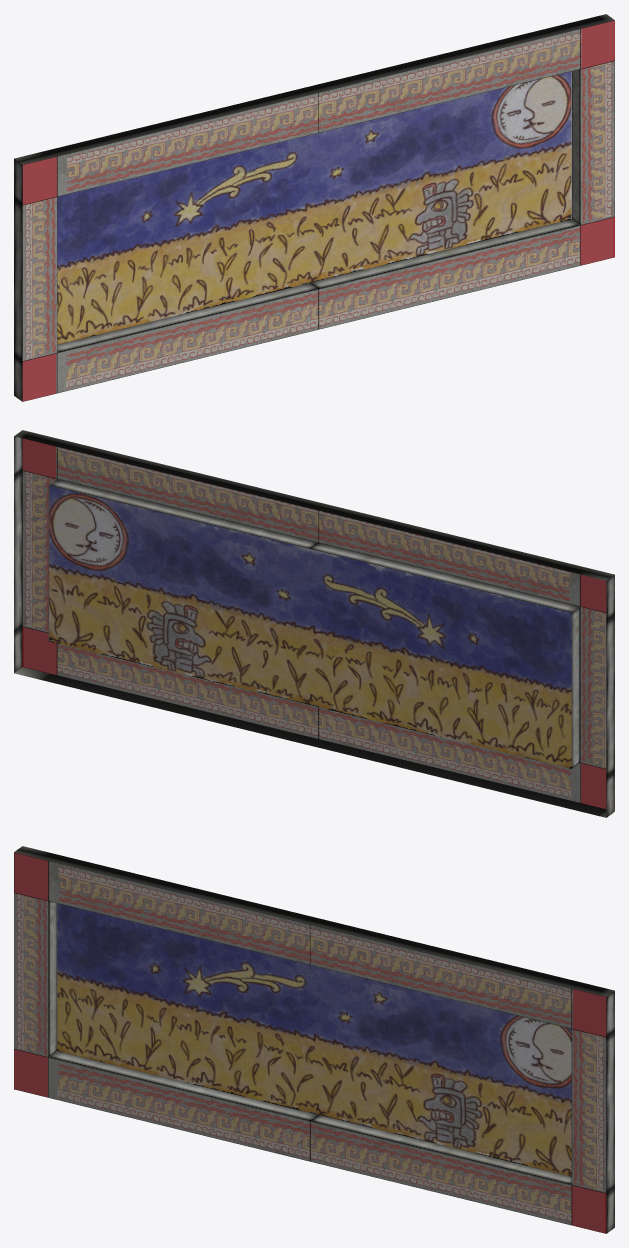
The model's file is Mural_Pasado.glb.
3 views of the same model, one above another, from view 1: azimuth 30°, elevation 25°; view 2: azimuth 150°, elevation 25°; view 3: azimuth 330°, elevation 25° (orthographic).
Parts seen in each view (by area): view 1: Mural_Guarda, B12, D12, C12, D5, D3, C3, C5, B5, B3, D4, D9 (+37 smaller); view 2: Mural_Guarda, D11, C11, D4, A11, C4, B4, B11, A4, A2, B2, D2 (+37 smaller); view 3: Mural_Guarda, C11, B11, D11, D4, C4, D2, B2, B4, C2, B1, D10 (+37 smaller).
Part boxes in pixels (x1,y1,x2,y2): Mural_Guarda: [14, 14, 614, 401]; B12: [527, 102, 571, 151]; D12: [527, 180, 571, 229]; C12: [527, 141, 571, 190]; D5: [222, 254, 266, 303]; D3: [135, 276, 179, 325]; C3: [135, 237, 179, 286]; C5: [222, 215, 266, 264]; B5: [222, 176, 266, 225]; B3: [135, 198, 179, 247]; D4: [179, 265, 222, 314]; D9: [397, 212, 440, 261]; Mural_Guarda: [14, 430, 614, 817]; D11: [92, 613, 136, 662]; C11: [92, 574, 136, 623]; D4: [397, 687, 441, 736]; A11: [92, 496, 136, 545]; C4: [397, 648, 441, 697]; B4: [397, 609, 441, 658]; B11: [92, 535, 136, 584]; A4: [397, 570, 441, 619]; A2: [484, 592, 528, 640]; B2: [484, 631, 528, 679]; D2: [484, 709, 528, 757]; Mural_Guarda: [14, 846, 614, 1233]; C11: [492, 1079, 536, 1128]; B11: [492, 1040, 536, 1089]; D11: [492, 1118, 536, 1167]; D4: [187, 1044, 231, 1093]; C4: [187, 1005, 231, 1054]; D2: [100, 1023, 144, 1071]; B2: [100, 945, 144, 993]; B4: [187, 966, 231, 1015]; C2: [100, 984, 144, 1032]; B1: [57, 934, 100, 983]; D10: [449, 1107, 492, 1157].
Size of the model in its own units: 2.04 by 0.7804 by 0.0509.
2 materials, 2 textured.
